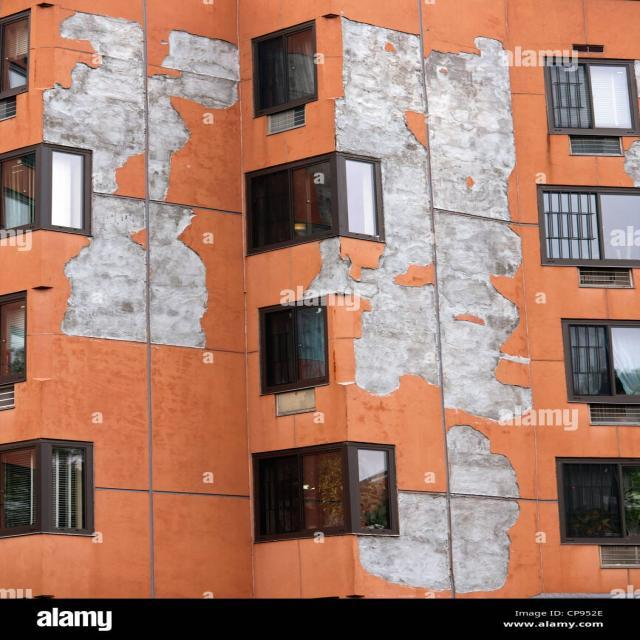Paint peeling: (296, 17, 533, 427), (53, 22, 246, 363), (359, 433, 521, 592)
